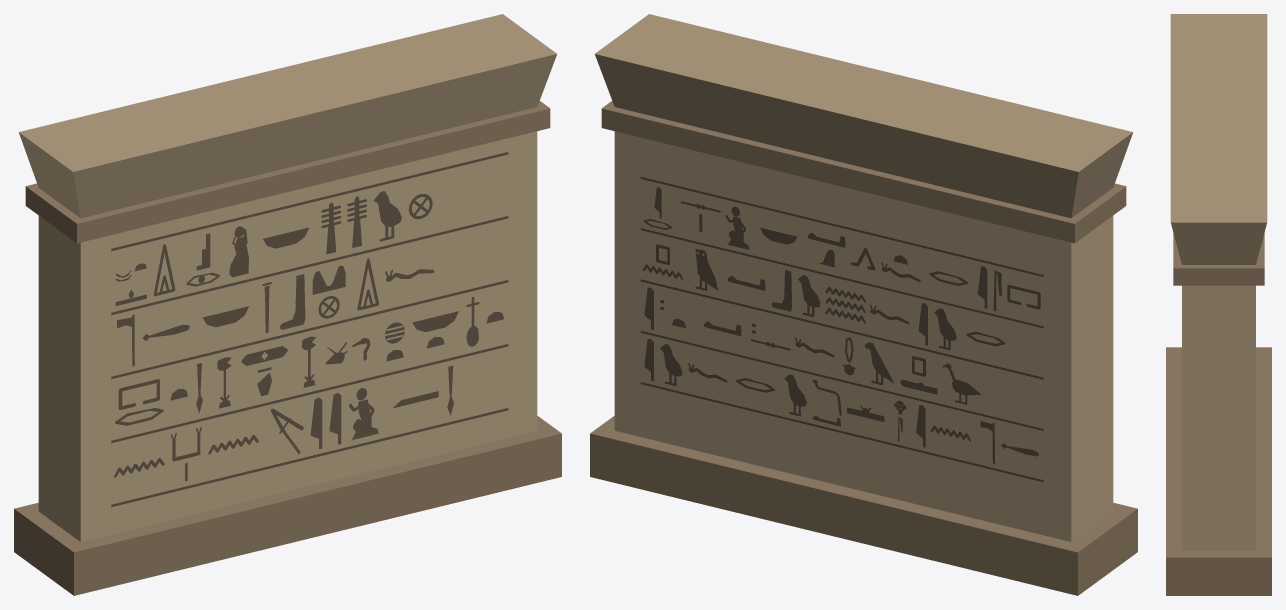
File: wall_glyphs.glb
3 views of the same model, side by side, from view 1: azimuth 30°, elevation 25°; view 2: azimuth 150°, elevation 25°; view 3: azimuth 270°, elevation 25° (orthographic). The views are drawn at different scales.
Parts seen in each view (by area): view 1: wall_glyphs; view 2: wall_glyphs; view 3: wall_glyphs.
Part boxes in pixels (bbox=[...]): wall_glyphs: bbox=[14, 14, 561, 595]; wall_glyphs: bbox=[590, 14, 1137, 595]; wall_glyphs: bbox=[1166, 14, 1271, 595].
Size of the model in its own units: 4.7 by 3.88 by 1.
